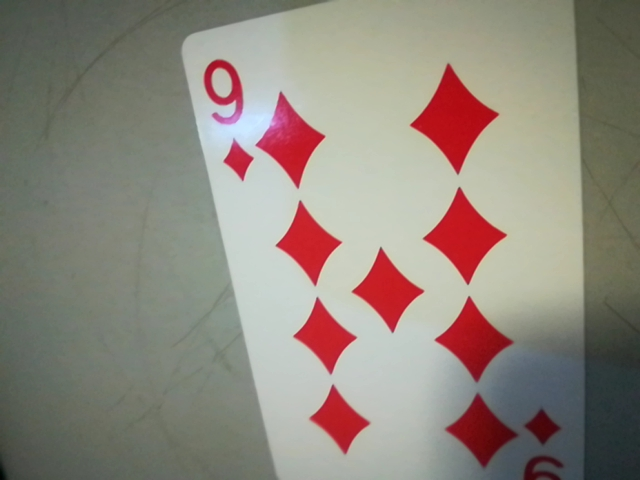fk 9: (189, 48, 267, 186)
